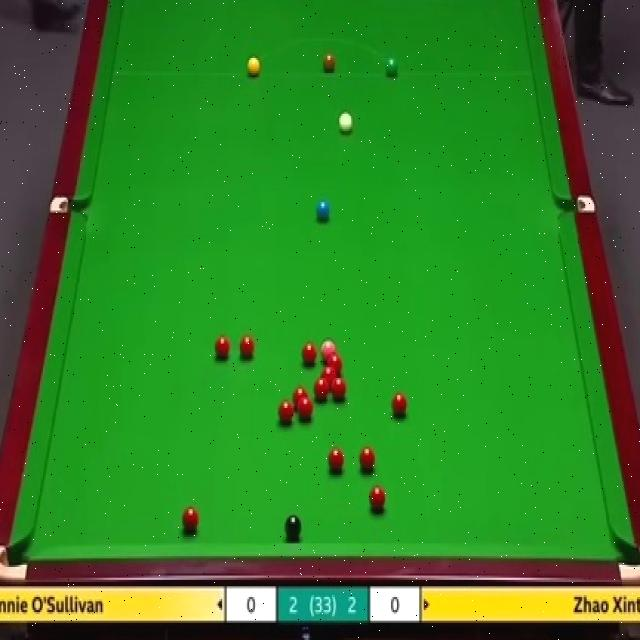black-ball: (283, 512, 302, 538)
blue-ball: (316, 201, 330, 219)
brown-ball: (324, 54, 336, 72)
green-ball: (384, 54, 399, 78)
pink-ball: (316, 341, 335, 357)
red-ball: (390, 388, 408, 417), (238, 333, 256, 361), (182, 507, 198, 537), (213, 334, 229, 360), (368, 484, 383, 511), (298, 394, 314, 419), (314, 377, 329, 402), (330, 450, 344, 476), (358, 446, 374, 468), (319, 365, 335, 385), (326, 354, 342, 373), (279, 403, 294, 423), (331, 374, 345, 395), (303, 342, 316, 364)
white-ball: (336, 110, 354, 132)
yellow-ball: (247, 56, 260, 78)
